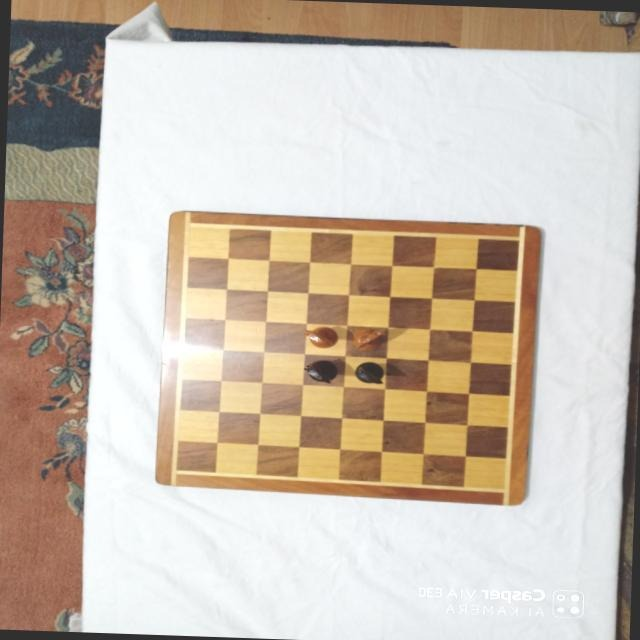black-knight: (302, 358, 338, 382), (352, 360, 383, 384)
white-knight: (351, 325, 386, 351), (302, 324, 338, 347)
